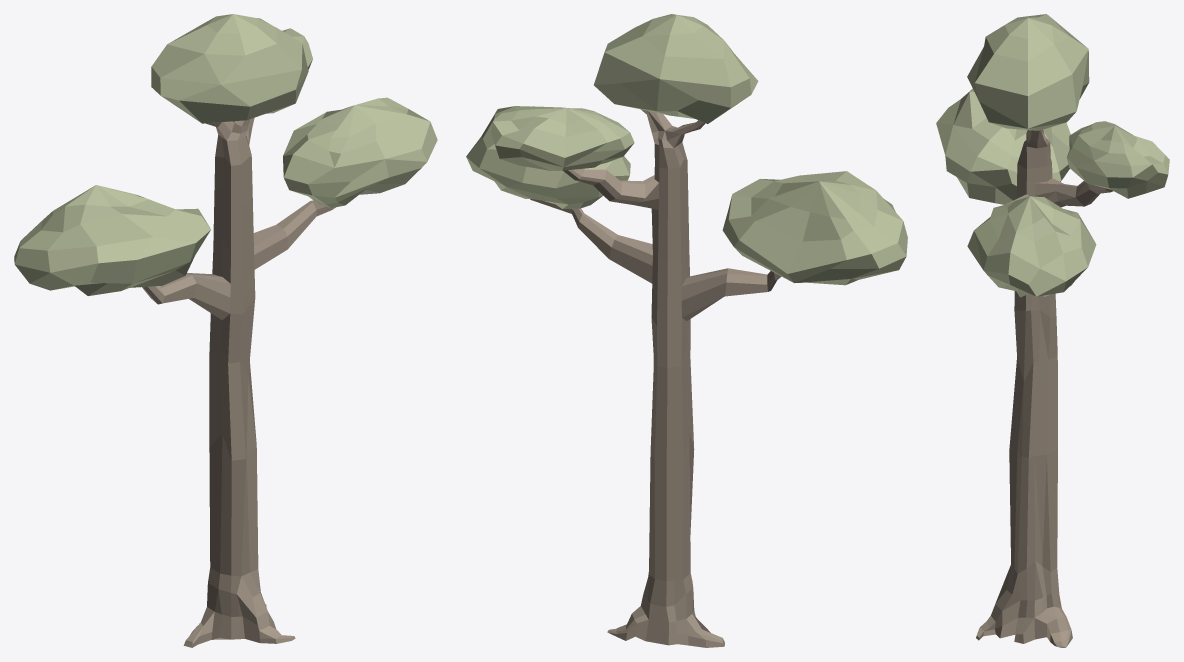
The model's file is ER_Asset_Tree03.fbx.
The picture shows the model from 3 angles, left to right: view 1: azimuth 30°, elevation 25°; view 2: azimuth 150°, elevation 25°; view 3: azimuth 270°, elevation 25°; orthographic projection.
Parts seen in each view (by area): view 1: polySurface4217; view 2: polySurface4217; view 3: polySurface4217.
Part boxes in pixels (<box>): polySurface4217: <box>14,14,437,647</box>; polySurface4217: <box>466,14,907,647</box>; polySurface4217: <box>936,14,1169,647</box>.
Bounding box in the file's own units: 5.11 × 7.18 × 2.49.
